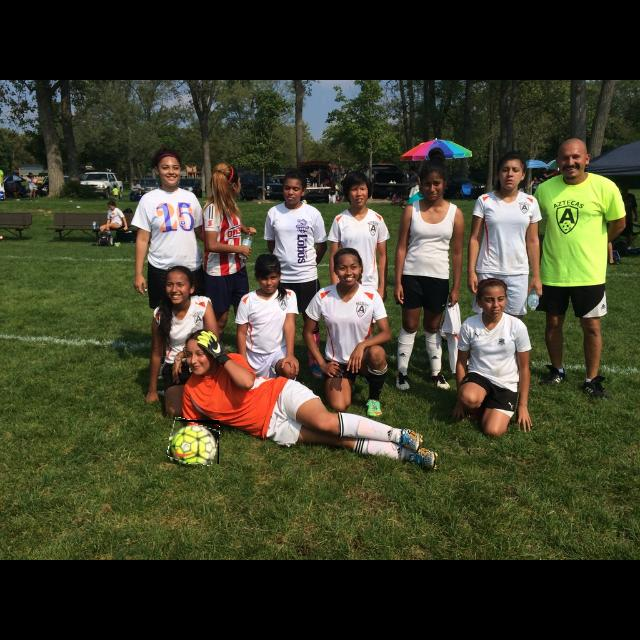Football: (169, 420, 219, 464)
